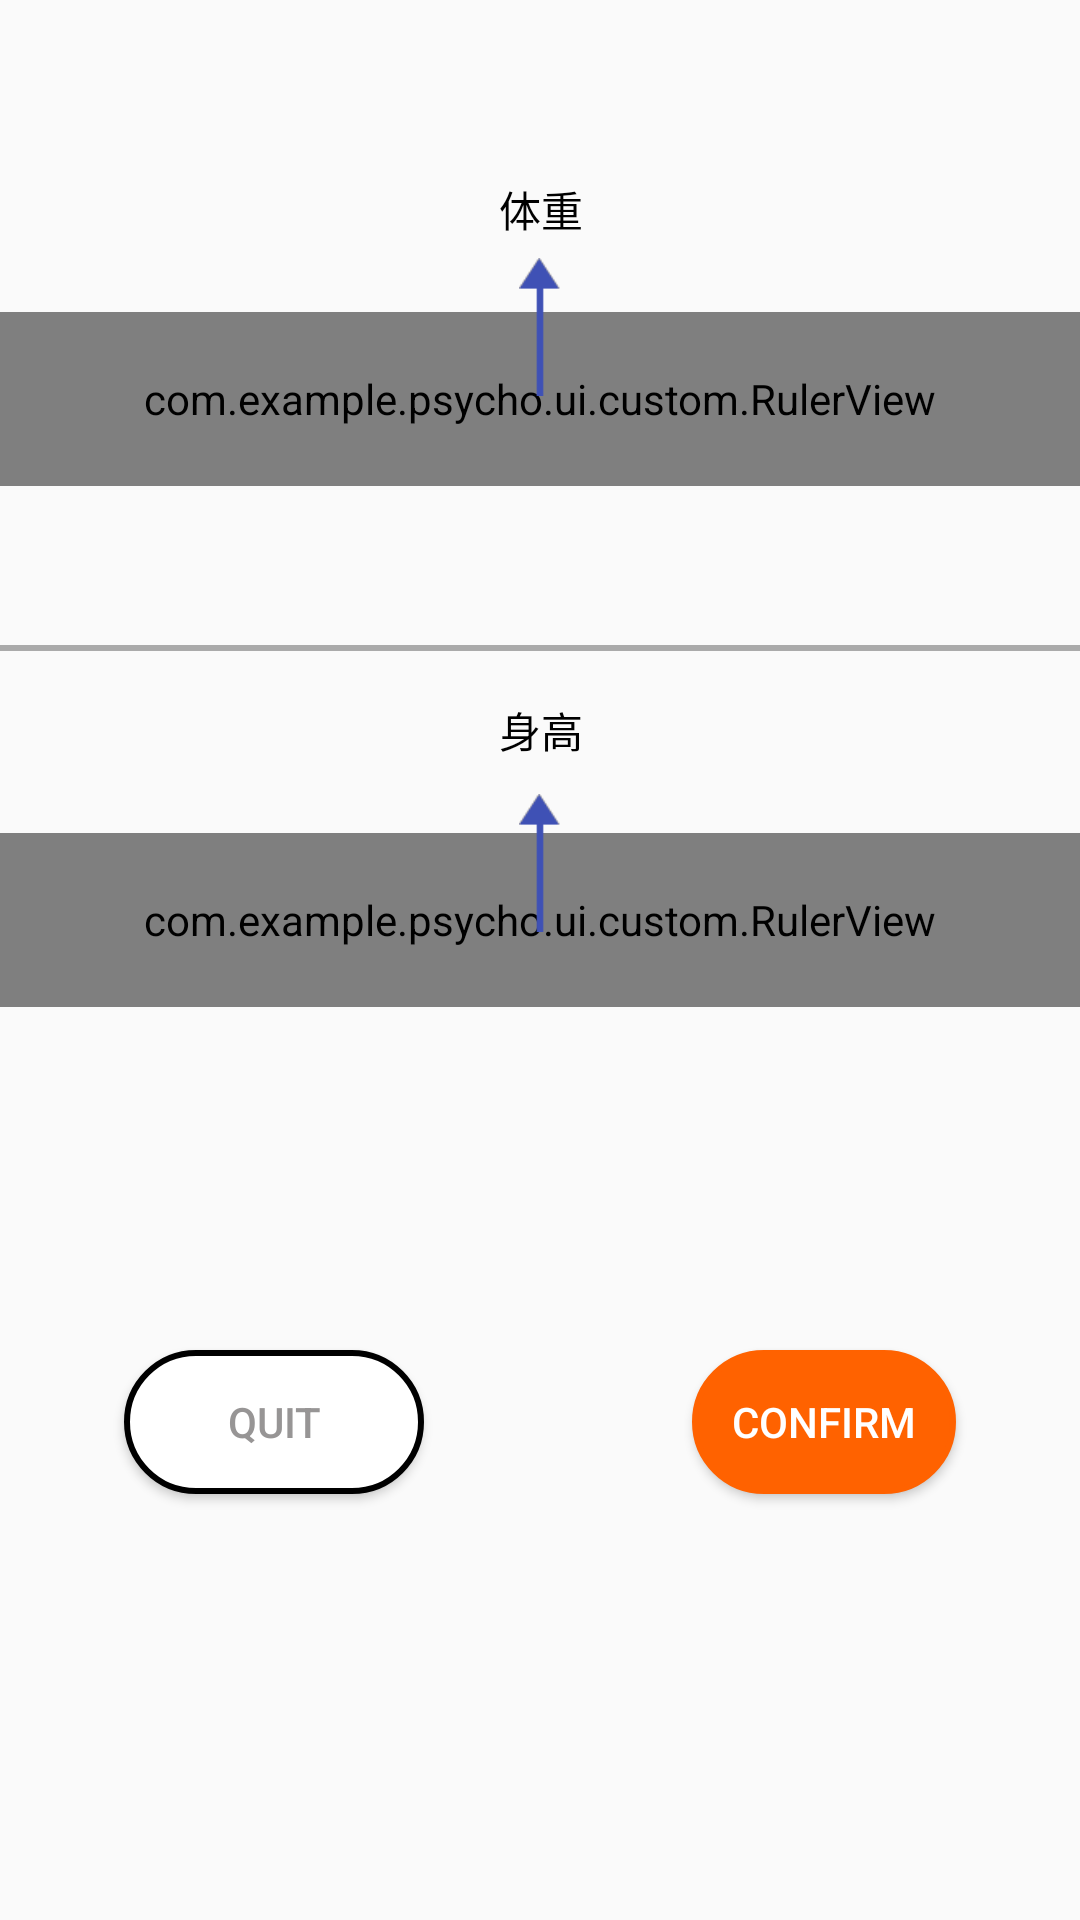

Point at icon controls on the screen. Image size 1080w x 1920h, points as (x=x, y=y).
arrow: (x=540, y=327), (x=540, y=863)
